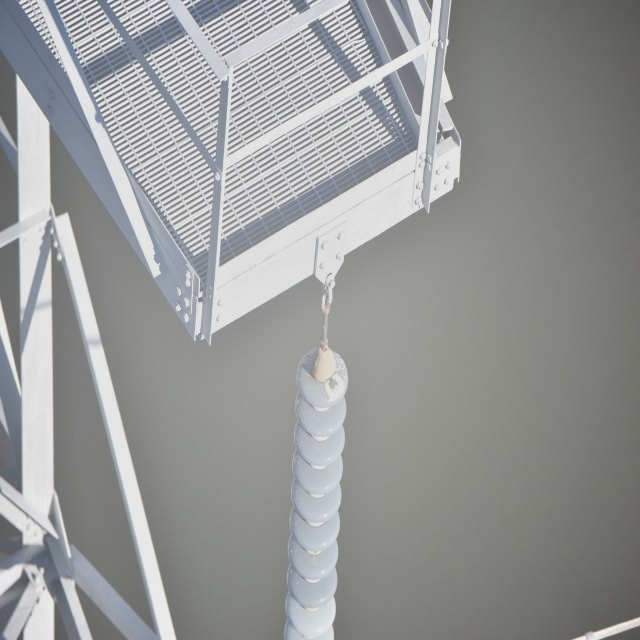insulator: (285, 346, 349, 640)
